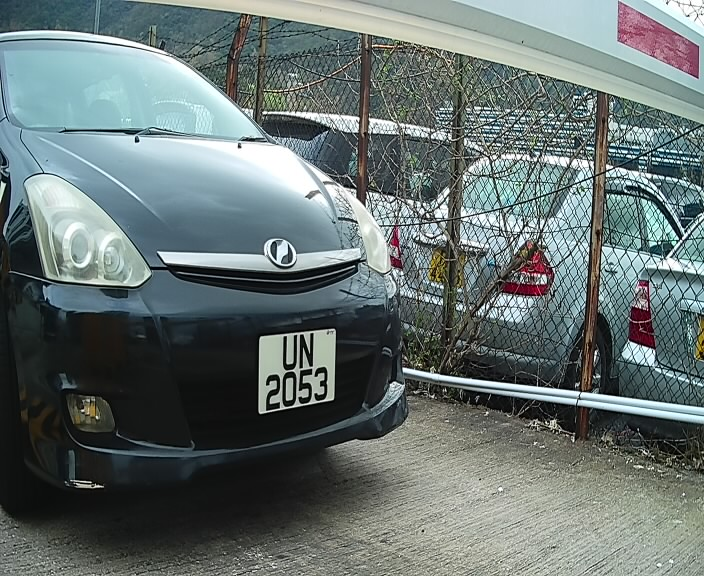License Plate: (253, 320, 342, 419)
